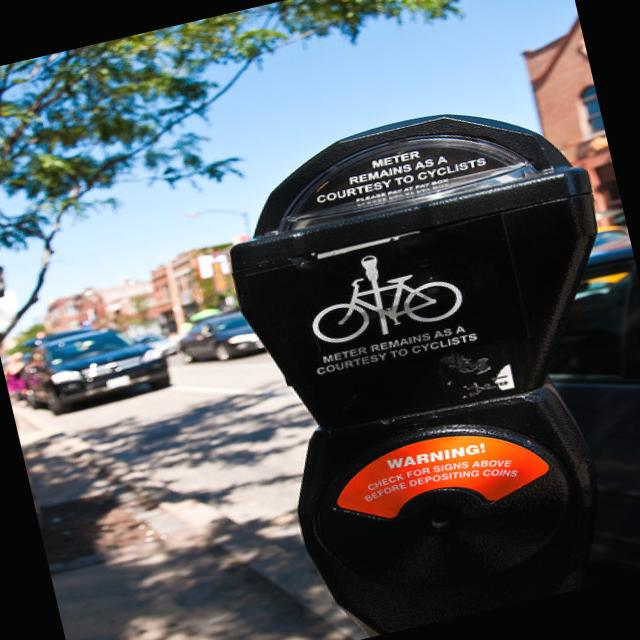Vehicle: (14, 316, 174, 419), (557, 220, 640, 301), (175, 305, 267, 370), (128, 325, 179, 364)
